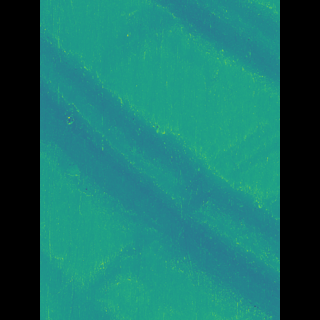Loch: (71, 24, 250, 320), (154, 0, 249, 105)
